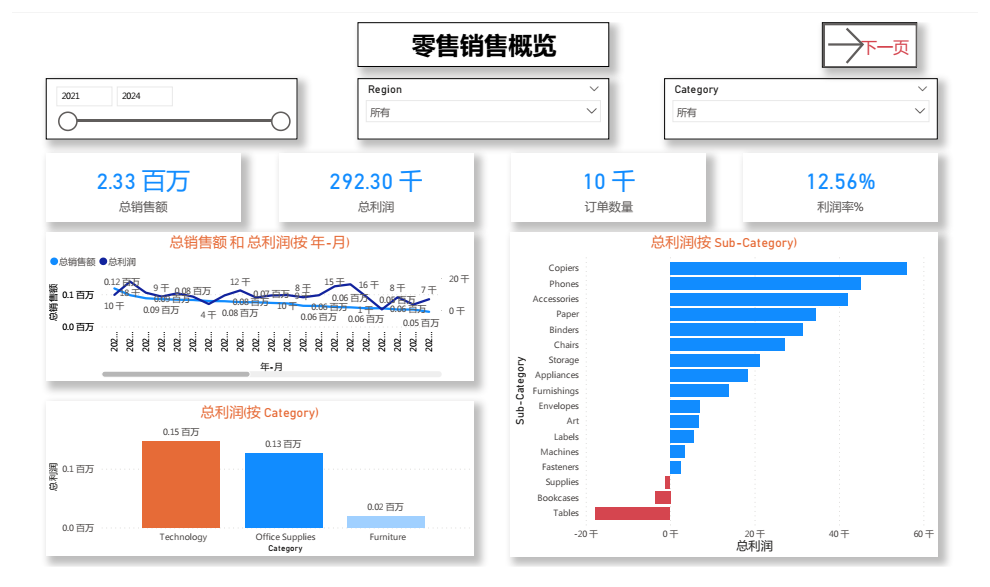

The dashboard page shown, as its layout file describes it:
{"tool":"powerbi","page":{"name":"第 1 页","canvas":[1280,720],"ordinal":0},"visuals":[{"type":"slicer","fields":{"Values":["日期表.年份"]},"box":[45.5,74.1,333.5,80.8],"z":0},{"type":"textbox","box":[458.1,0,333.5,58.9],"z":1000},{"type":"slicer","fields":{"Values":["Orders.Region"]},"box":[458.1,74.1,333.5,80.8],"z":2000},{"type":"slicer","fields":{"Values":["Orders.Category"]},"box":[864,74.1,362.1,80.8],"z":3000},{"type":"card","fields":{"Values":["Orders.总销售额"]},"box":[45.5,173.5,257.7,90.9],"z":4000},{"type":"card","fields":{"Values":["Orders.总利润"]},"box":[353.7,173.5,257.7,90.9],"z":5000},{"type":"card","fields":{"Values":["Orders.订单数量"]},"box":[661.9,173.5,257.7,90.9],"z":6000},{"type":"card","fields":{"Values":["Orders.利润率%"]},"box":[968.4,173.5,257.7,90.9],"z":7000},{"type":"lineChart","fields":{"Category":["日期表.年-月"],"Y":["Orders.总销售额"],"Y2":["Orders.总利润"]},"box":[45.5,277.9,565.9,197.1],"z":8000},{"type":"clusteredColumnChart","fields":{"Category":["Orders.Category"],"Y":["Orders.总利润"]},"box":[45.5,501.9,565.9,205.5],"z":9000},{"type":"clusteredBarChart","fields":{"Category":["Orders.Sub-Category"],"Y":["Orders.总利润"]},"box":[660.2,277.9,565.9,429.5],"z":10000},{"type":"actionButton","box":[1072.2,0,126,59.7],"z":11000}]}

Visuals, with their boxes on the page's 1280x720 design canvas (x1, y1, x2, y2). These are canvas units, not pixel positions in the 990x587 screenshot, which may show the page scaled, cropped or inside an application window:
slicer - 日期表.年份: [x1=46, y1=74, x2=379, y2=155]
textbox: [x1=458, y1=0, x2=792, y2=59]
slicer - Orders.Region: [x1=458, y1=74, x2=792, y2=155]
slicer - Orders.Category: [x1=864, y1=74, x2=1226, y2=155]
card - Orders.总销售额: [x1=46, y1=174, x2=303, y2=264]
card - Orders.总利润: [x1=354, y1=174, x2=611, y2=264]
card - Orders.订单数量: [x1=662, y1=174, x2=920, y2=264]
card - Orders.利润率%: [x1=968, y1=174, x2=1226, y2=264]
lineChart - 日期表.年-月 x Orders.总销售额: [x1=46, y1=278, x2=611, y2=475]
clusteredColumnChart - Orders.Category x Orders.总利润: [x1=46, y1=502, x2=611, y2=707]
clusteredBarChart - Orders.Sub-Category x Orders.总利润: [x1=660, y1=278, x2=1226, y2=707]
actionButton: [x1=1072, y1=0, x2=1198, y2=60]
